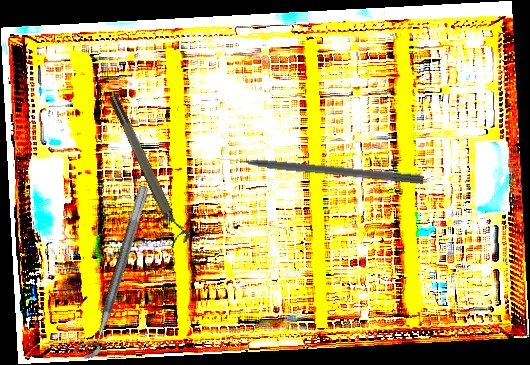Fixation Ring: (71, 180, 151, 363), (105, 90, 193, 249)
Pusher: (215, 151, 425, 185)
